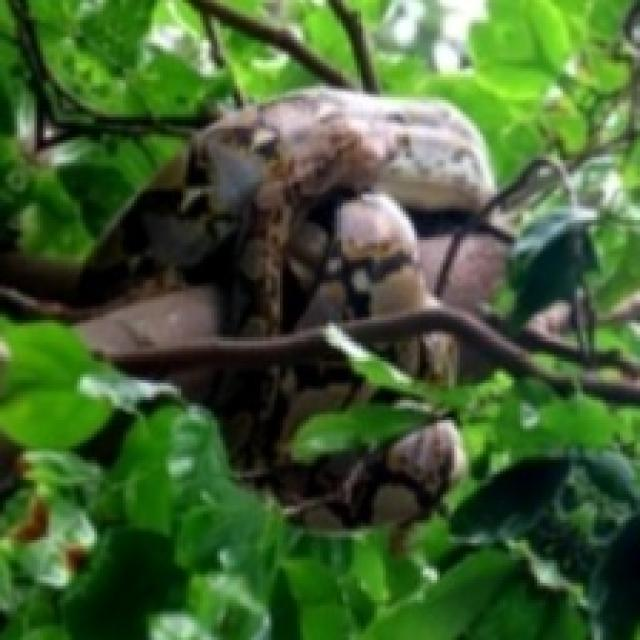reticulated python: (35, 89, 505, 356), (175, 355, 466, 525), (380, 332, 464, 381)
